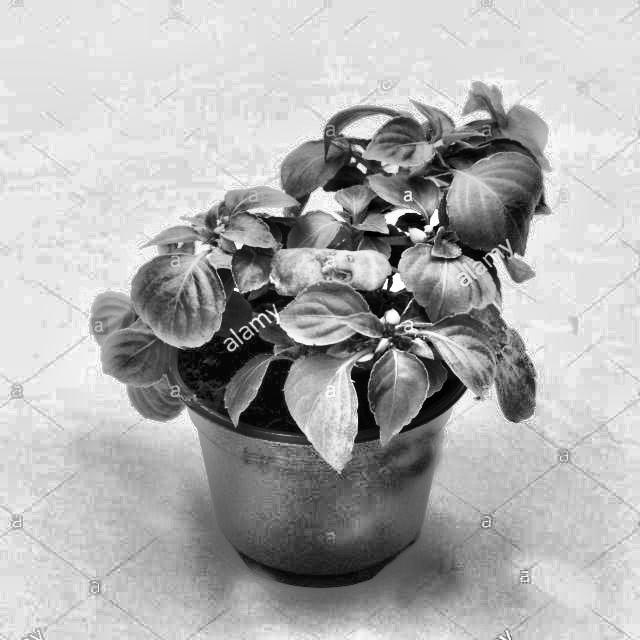plants: (70, 87, 554, 588), (439, 297, 553, 422), (270, 233, 402, 306)
